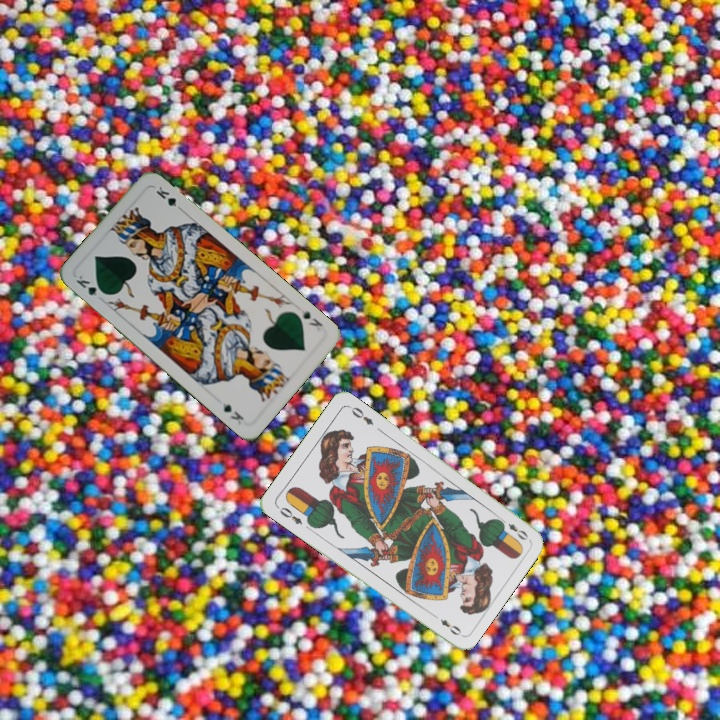EO: (495, 514, 531, 543), (275, 503, 305, 527)
GK: (72, 271, 109, 299), (297, 306, 325, 334)
